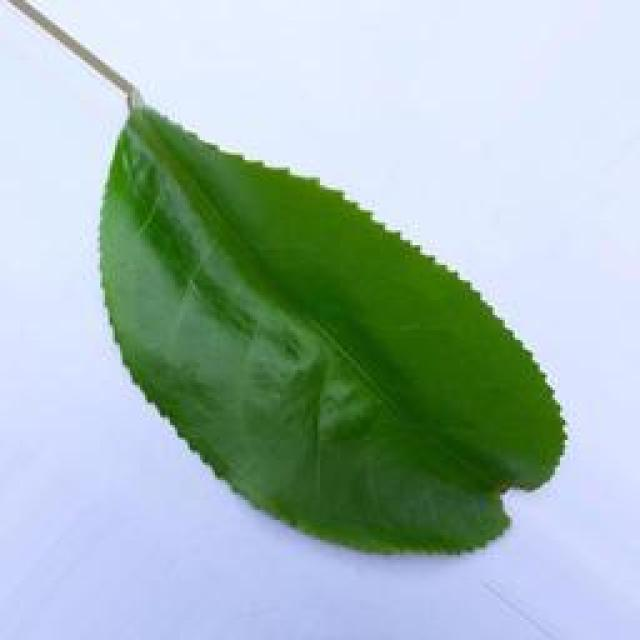Healthy: (83, 49, 573, 572)
